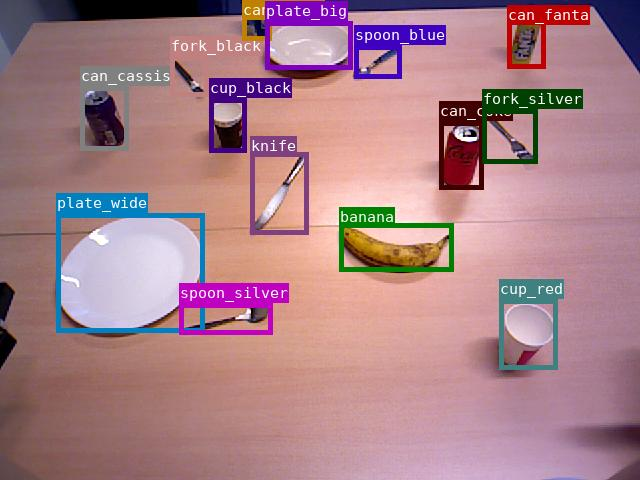banana: (339, 223, 453, 271)
can_cassis: (80, 86, 128, 150)
can_coke: (439, 121, 483, 189)
can_fanta: (507, 5, 545, 68)
can_pepsi: (242, 0, 271, 40)
cup_black: (209, 98, 246, 152)
cup_red: (499, 299, 557, 369)
fork_black: (170, 56, 208, 96)
fork_silver: (482, 109, 537, 163)
knife: (250, 152, 308, 234)
plate_big: (265, 21, 352, 69)
plate_wide: (56, 213, 204, 332)
spoon_blue: (354, 45, 401, 78)
spoon_silver: (179, 303, 272, 334)
